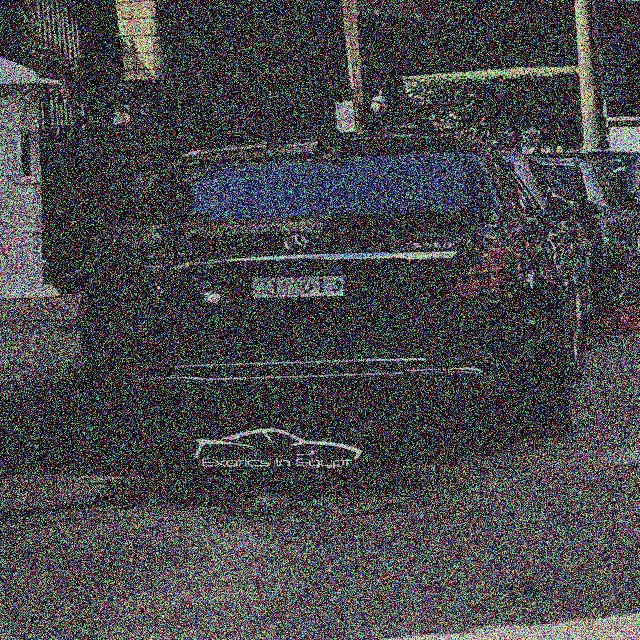License Plate: (248, 259, 347, 301)
